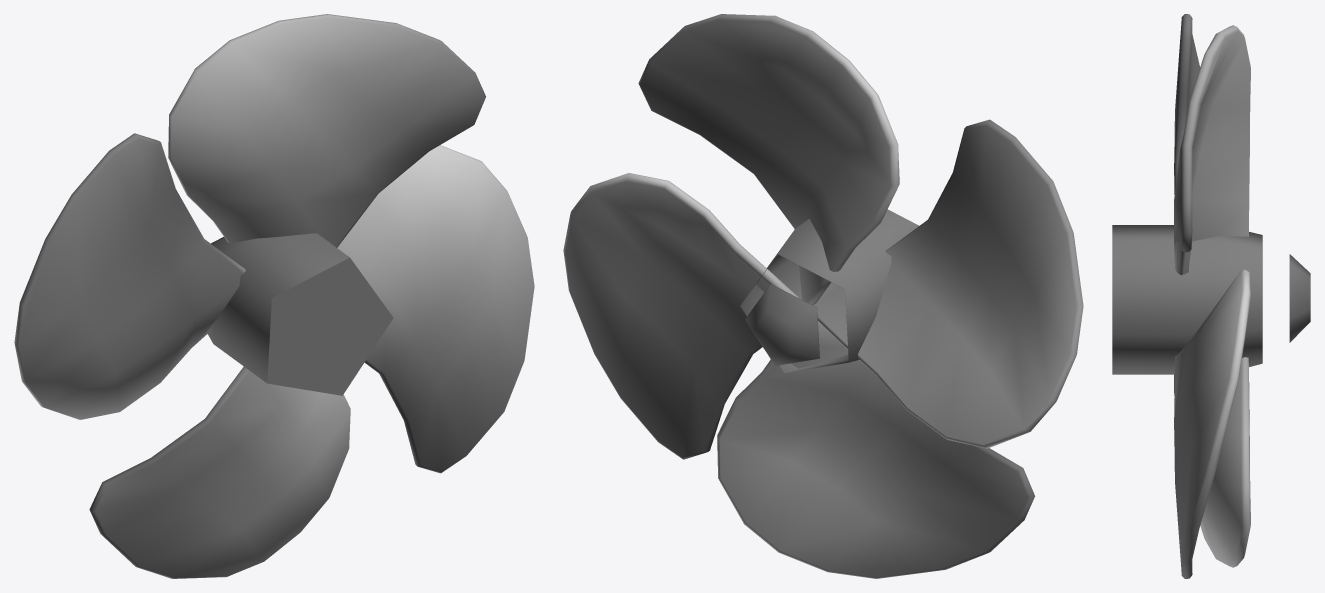
Rendered from propeller_left.fbx.
The picture shows the model from 3 angles, left to right: view 1: azimuth 30°, elevation 25°; view 2: azimuth 150°, elevation 25°; view 3: azimuth 270°, elevation 25°; orthographic projection.
Parts seen in each view (by area): view 1: Nobble; view 2: Nobble; view 3: Nobble.
Part boxes in pixels (x1,y1,x2,y2): Nobble: (14,14,534,578); Nobble: (563,14,1083,578); Nobble: (1112,14,1310,578).
Size of the model in its own units: 300 by 300 by 100.
